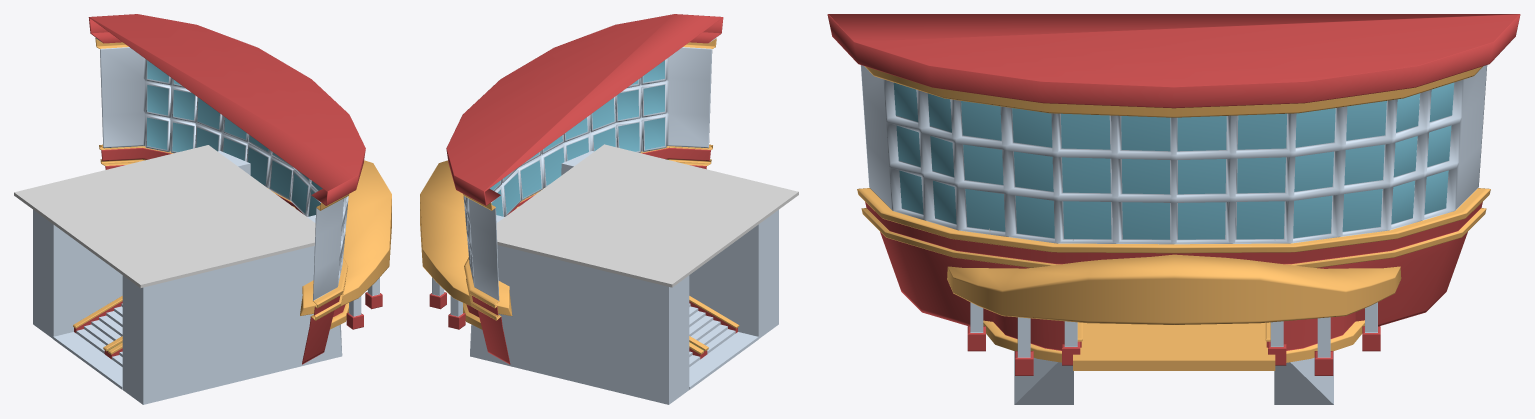
The model's file is entrance-new.fbx.
The picture shows the model from 3 angles, left to right: view 1: azimuth 30°, elevation 25°; view 2: azimuth 150°, elevation 25°; view 3: azimuth 270°, elevation 25°; orthographic projection. The views are drawn at different scales.
Parts seen in each view (by area): view 1: mall, wall inside, Plane, roof, stairs, rim, pillars.001, pillars.002; view 2: mall, wall inside, Plane, roof, stairs, rim, pillars.001, pillars.002; view 3: mall, roof, floor, wall inside, entrance wall, pillars.002, pillars.001, pillars.
Part boxes in pixels (x1,y1,x2,y2): mall: (88,14,365,364); wall inside: (33,151,342,404); Plane: (14,145,315,288); roof: (292,160,391,315); stairs: (53,303,122,389); rim: (73,296,122,332); pillars.001: (346,296,363,329); pillars.002: (365,277,382,309); mall: (446,14,723,364); wall inside: (470,151,778,404); Plane: (496,144,798,287); roof: (420,160,518,315); stairs: (689,303,758,389); rim: (689,296,739,333); pillars.001: (448,296,465,329); pillars.002: (429,277,446,309); mall: (827,14,1520,326); roof: (947,254,1401,324); floor: (1073,322,1275,370); wall inside: (1014,239,1333,404); entrance wall: (983,312,1364,362); pillars.002: (1015,317,1333,375); pillars.001: (967,302,1380,351); pillars: (1062,321,1286,365).
Size of the model in its own units: 4137 by 3082 by 5777.
